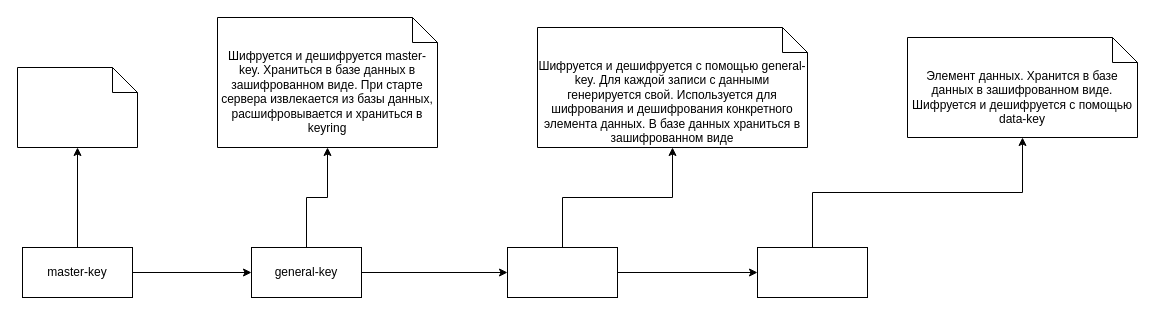
Image size: 1155x315. Some labels were removed from this diagram. Here are the shapes that lost their labels. From the top down, the centre of each, then its label:
point (77, 107): Передается при сборке через ldflags
point (562, 272): data-key
point (812, 272): data
